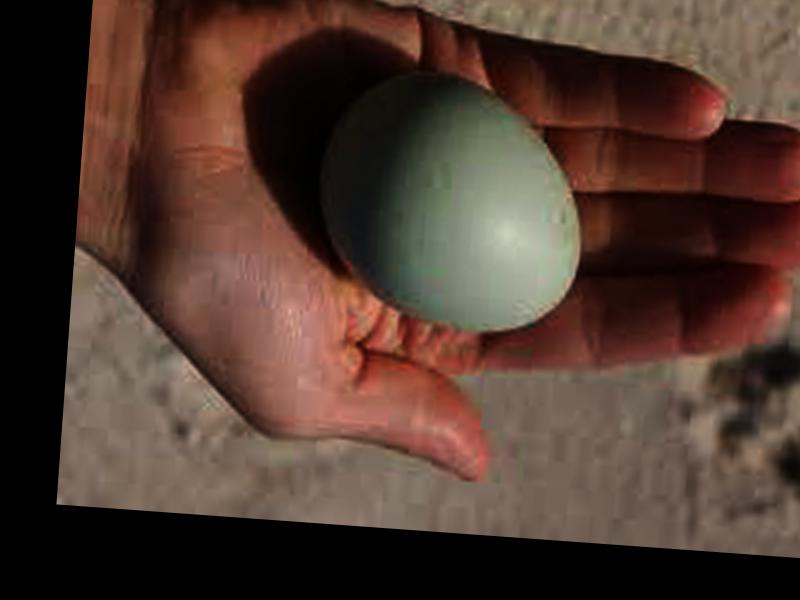Eggs: (314, 64, 587, 332)
